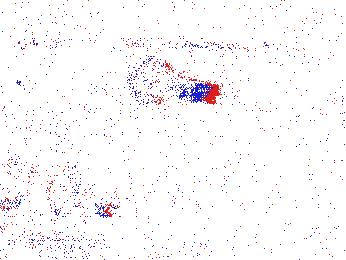flame jellyfish: (124, 54, 219, 110), (47, 166, 120, 221), (1, 151, 36, 215)
